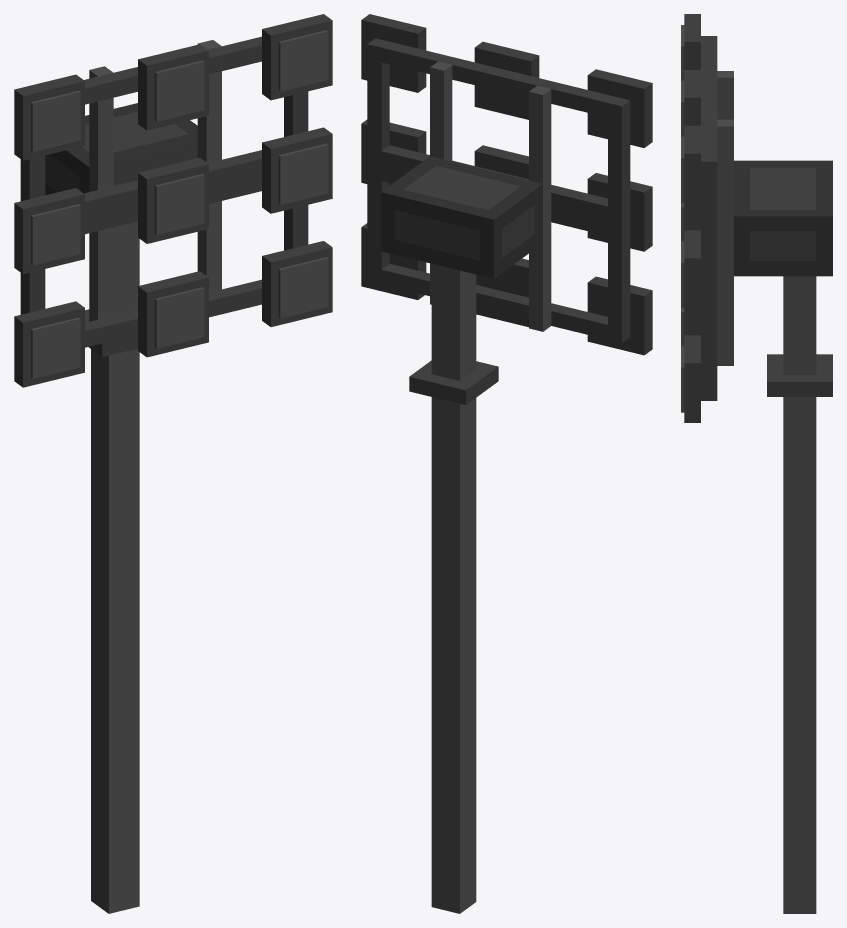
The model's file is Floodlight.fbx.
3 views of the same model, side by side, from view 1: azimuth 30°, elevation 25°; view 2: azimuth 150°, elevation 25°; view 3: azimuth 270°, elevation 25° (orthographic). The views are drawn at different scales.
Parts seen in each view (by area): view 1: group2, mesh, group, mesh_24; view 2: group2, mesh, group, mesh_24; view 3: mesh, group2, group, mesh_24.
Part boxes in pixels (x1,y1,x2,y2): group2: (14, 14, 332, 387); mesh: (91, 221, 139, 913); group: (45, 103, 197, 195); mesh_24: (85, 309, 137, 356); group2: (361, 14, 652, 355); mesh: (431, 264, 476, 913); group: (381, 156, 542, 278); mesh_24: (409, 360, 498, 405); mesh: (783, 276, 816, 913); group2: (681, 14, 733, 422); group: (734, 160, 832, 276); mesh_24: (767, 354, 832, 396).
Size of the model in its own units: 125 by 344 by 57.5.
1 material, 1 textured.
